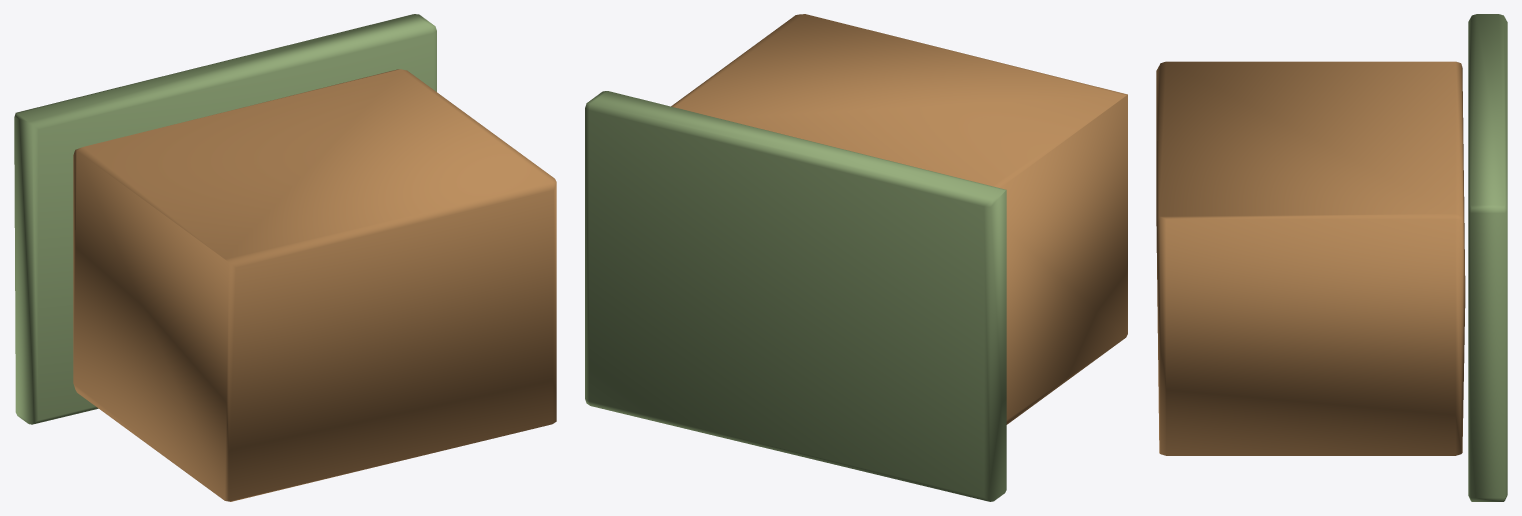
File: chicken_coop.glb
3 renders of one model, left to right at view 1: azimuth 30°, elevation 25°; view 2: azimuth 150°, elevation 25°; view 3: azimuth 270°, elevation 25°, orthographic. The views are drawn at different scales.
Parts seen in each view (by area): view 1: Coop, Roof; view 2: Roof, Coop; view 3: Coop, Roof.
Part boxes in pixels (x1=…): Coop: x1=73, y1=69, x2=556, y2=501; Roof: x1=14, y1=14, x2=436, y2=424; Roof: x1=585, y1=91, x2=1006, y2=501; Coop: x1=671, y1=14, x2=1127, y2=424; Coop: x1=1156, y1=61, x2=1465, y2=455; Roof: x1=1468, y1=14, x2=1507, y2=501.
Bounding box in the file's own units: 1.63 × 1.16 × 1.25.
